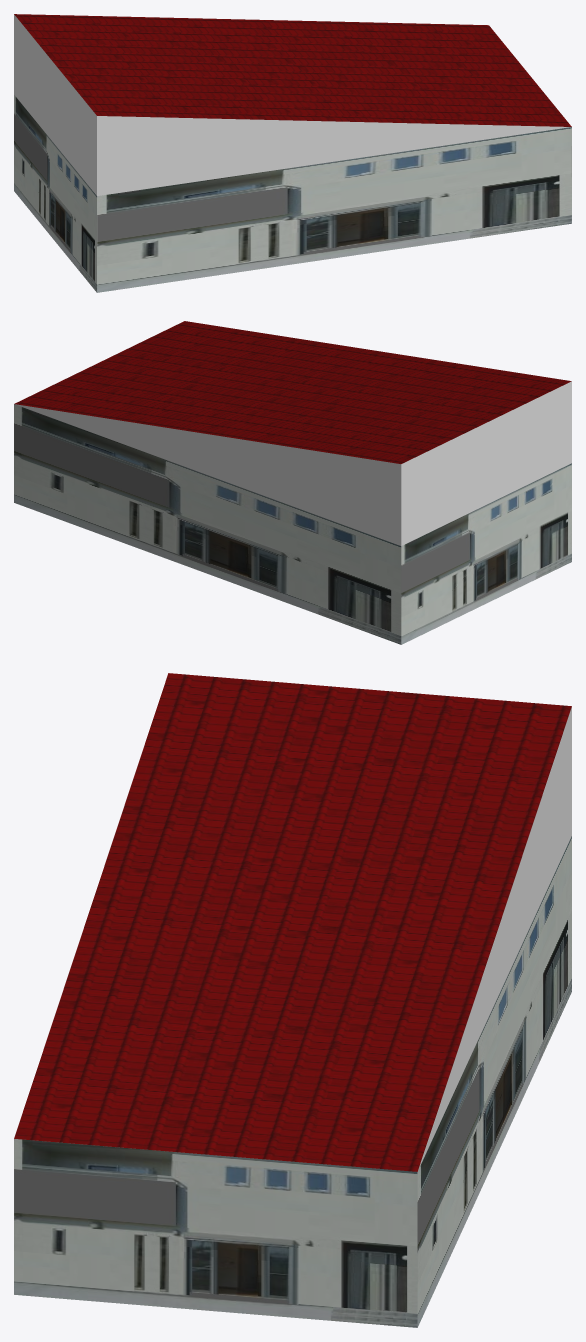
3 views of the same model, one above another, from view 1: azimuth 30°, elevation 25°; view 2: azimuth 150°, elevation 25°; view 3: azimuth 270°, elevation 25° (orthographic). The views are drawn at different scales.
Visible parts, largest first — view 1: CityEngineMaterial_11_m, CityEngineMaterial_17_m, CityEngineMaterial_3_m; view 2: CityEngineMaterial_11_m, CityEngineMaterial_17_m, CityEngineMaterial_3_m; view 3: CityEngineMaterial_17_m, CityEngineMaterial_11_m, CityEngineMaterial_3_m.
Part boxes in pixels (x1,y1,x2,y2): CityEngineMaterial_11_m: (14,95,571,292); CityEngineMaterial_17_m: (14,14,571,126); CityEngineMaterial_3_m: (14,14,570,195); CityEngineMaterial_11_m: (14,404,571,644); CityEngineMaterial_17_m: (14,321,571,463); CityEngineMaterial_3_m: (15,381,571,545); CityEngineMaterial_17_m: (14,673,571,1171); CityEngineMaterial_11_m: (14,836,571,1327); CityEngineMaterial_3_m: (418,707,571,1169).
Size of the model in its own units: 29.49 by 10.63 by 18.83.
